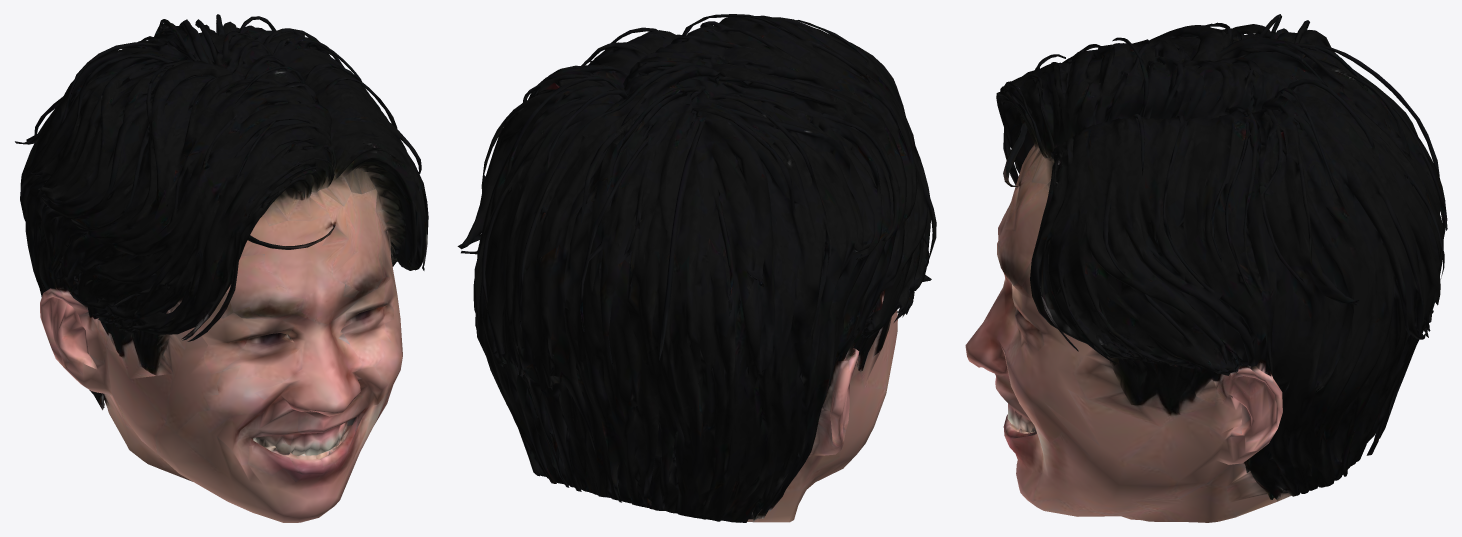
File: head_shaw.glb
3 renders of one model, left to right at view 1: azimuth 30°, elevation 25°; view 2: azimuth 150°, elevation 25°; view 3: azimuth 270°, elevation 25°, orthographic. The views are drawn at different scales.
Visible parts, largest first — view 1: Mesh_0; view 2: Mesh_0; view 3: Mesh_0.
Boxes of the visible parts, <box> form: Mesh_0: <box>15,14,428,522</box>; Mesh_0: <box>457,14,936,522</box>; Mesh_0: <box>965,14,1447,522</box>.
Size of the model in its own units: 0.7324 by 0.9002 by 0.8407.
1 material, 1 textured.
